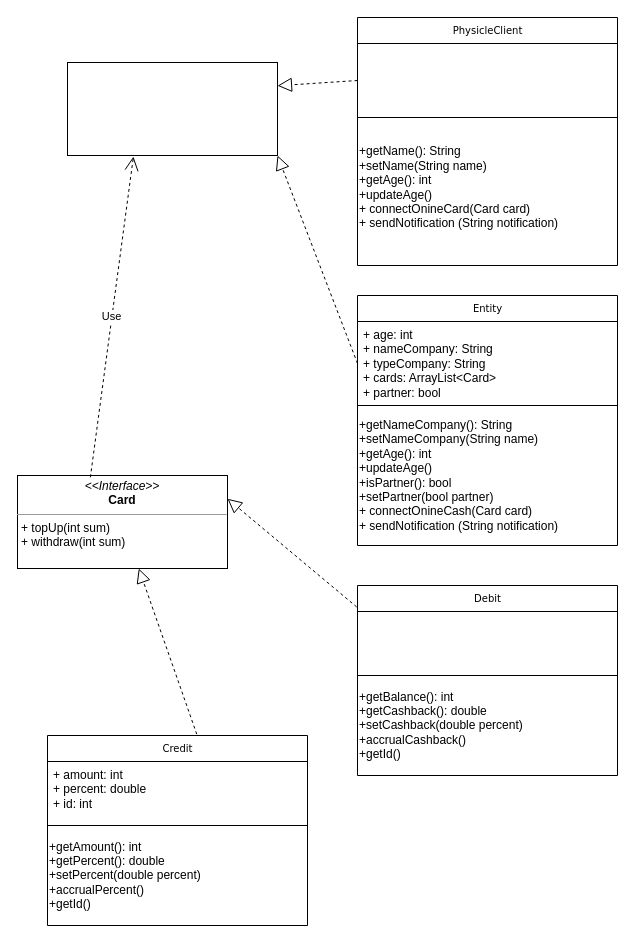
This 643x943 diagram has some shape labels left out. Each missing label, with the centre of its shape:
"+ age: int + name: String + gender: String + cards: ArrayList<Card>" belongs at pixel 487 80.
"+ balance: int + cashbackPercent: double + id: int" belongs at pixel 487 643.
"<<Interface>> Client + openCard() + closeCard(Card card)" belongs at pixel 172 109.
